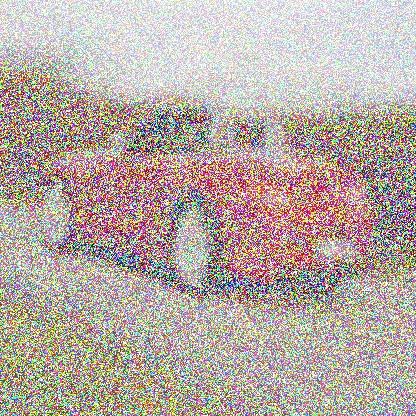Vehicle: (40, 88, 374, 302)
